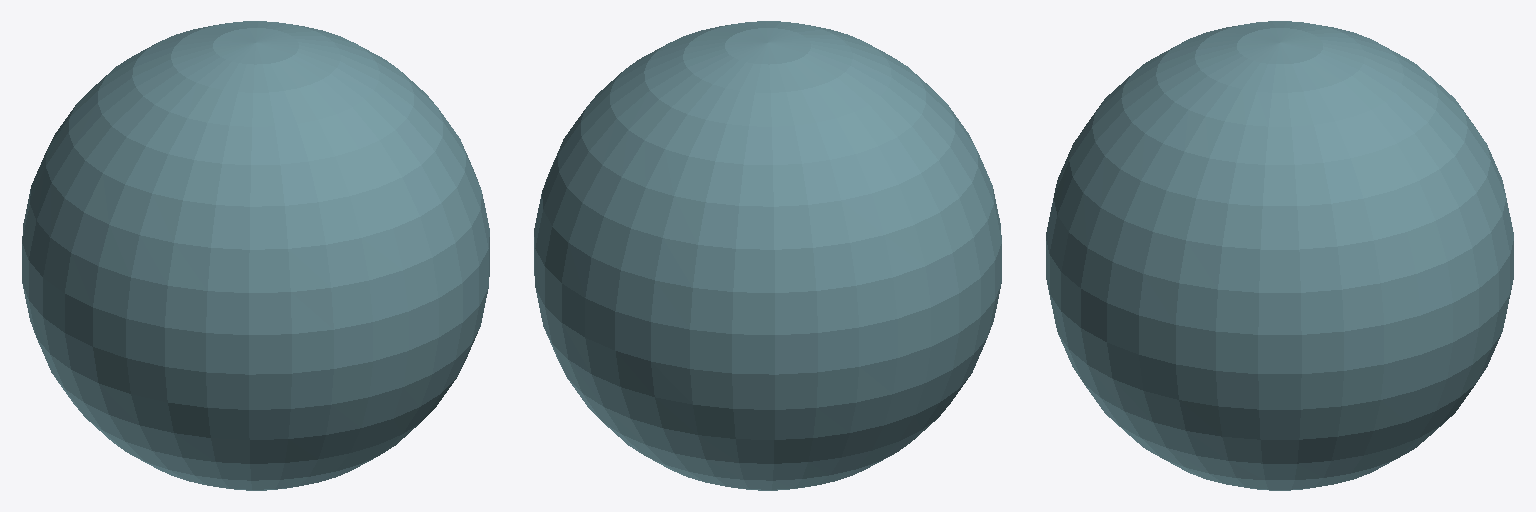
Rendered from glossy.obj.
3 views of the same model, side by side, from view 1: azimuth 30°, elevation 25°; view 2: azimuth 150°, elevation 25°; view 3: azimuth 270°, elevation 25° (orthographic).
Visible parts, largest first — view 1: sphere; view 2: sphere; view 3: sphere.
Part boxes in pixels (bbox=[...]): sphere: bbox=[22, 21, 489, 490]; sphere: bbox=[534, 21, 1001, 490]; sphere: bbox=[1046, 21, 1513, 490].
Size of the model in its own units: 0.6266 by 0.632 by 0.6293.